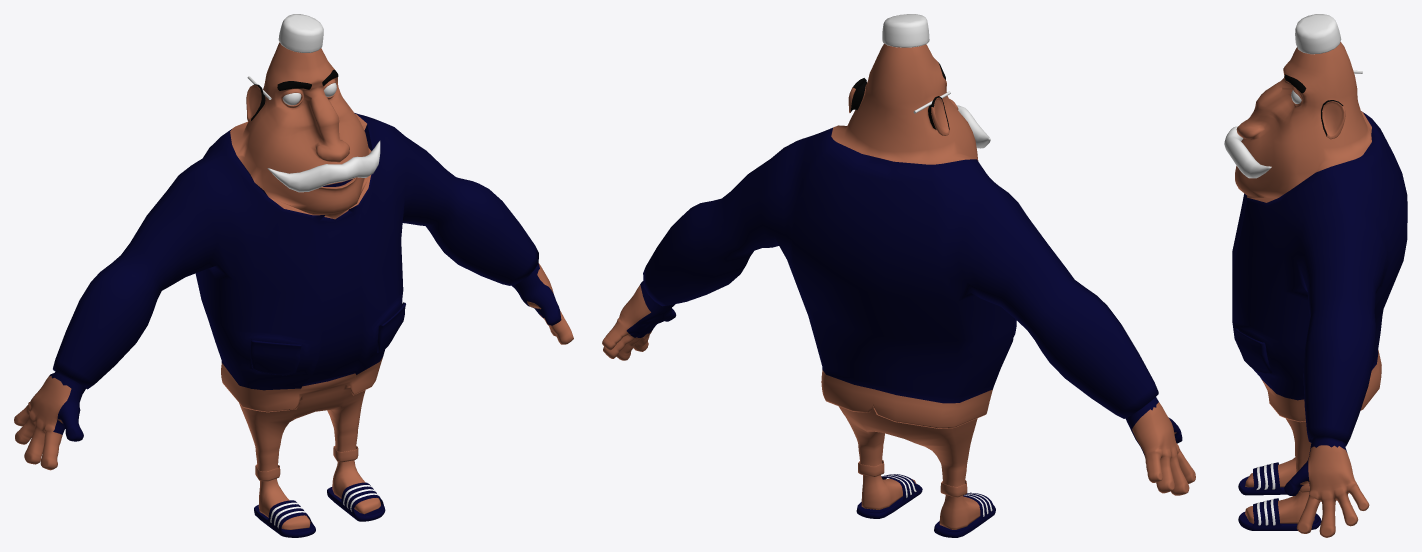
Rendered from TounsiRun.FBX.
3 renders of one model, left to right at view 1: azimuth 30°, elevation 25°; view 2: azimuth 150°, elevation 25°; view 3: azimuth 270°, elevation 25°, orthographic. The views are drawn at different scales.
Parts seen in each view (by area): view 1: Cylinder019, Cylinder009, Cylinder008, Box003, Box004; view 2: Cylinder019, Cylinder008, Box004, Box003; view 3: Cylinder019, Cylinder008, Box004, Cylinder009, Box003.
Part boxes in pixels (x1,y1,x2,y2): Cylinder019: [14, 42, 573, 529]; Cylinder009: [267, 140, 380, 192]; Cylinder008: [278, 14, 323, 52]; Box003: [254, 500, 315, 537]; Box004: [327, 482, 385, 521]; Cylinder019: [602, 43, 1195, 529]; Cylinder008: [882, 14, 929, 47]; Box004: [856, 474, 922, 518]; Box003: [934, 492, 995, 537]; Cylinder019: [1232, 42, 1407, 537]; Cylinder008: [1295, 14, 1341, 54]; Box004: [1238, 498, 1321, 530]; Cylinder009: [1224, 126, 1271, 178]; Box003: [1238, 462, 1286, 495].
Size of the model in its own units: 203 by 59.04 by 173.
